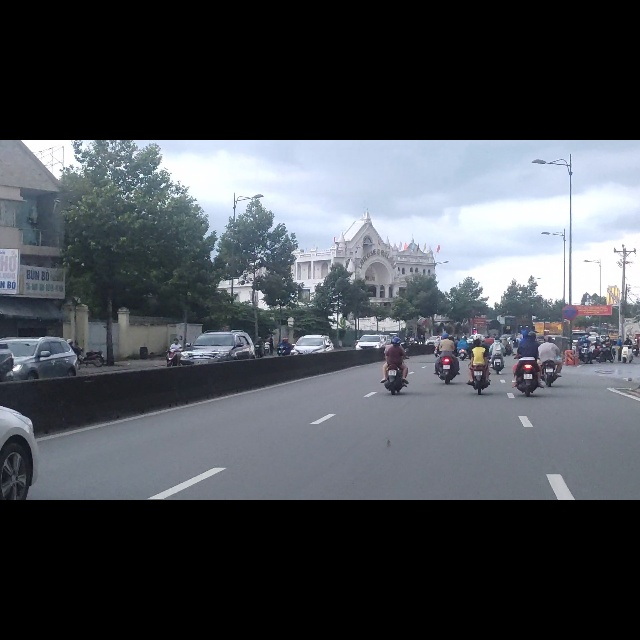bien_cam: (562, 293, 578, 320)
